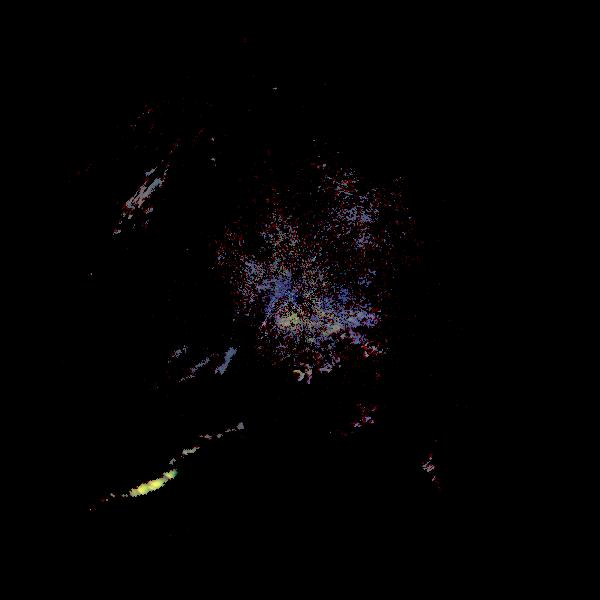roost: (207, 265, 423, 481), (398, 376, 545, 523)
